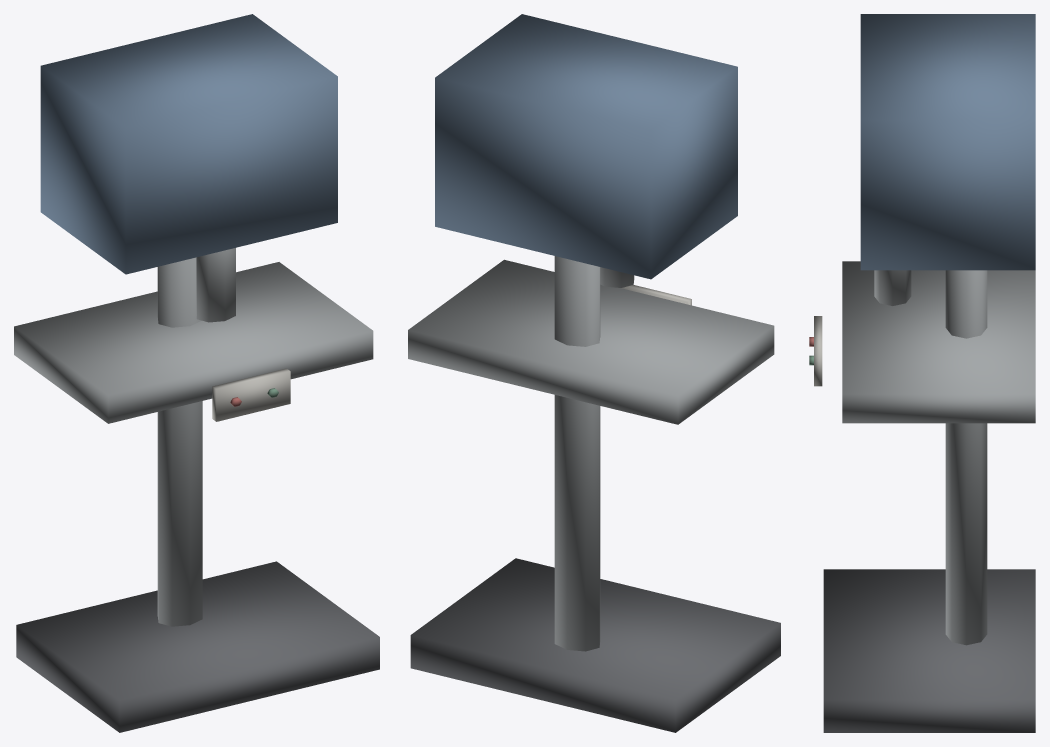
Rendered from drill_press__wide.glb.
The picture shows the model from 3 angles, left to right: view 1: azimuth 30°, elevation 25°; view 2: azimuth 150°, elevation 25°; view 3: azimuth 270°, elevation 25°; orthographic projection. The views are drawn at different scales.
Visible parts, largest first — view 1: world; view 2: world; view 3: world.
Boxes of the visible parts, box(x1,y1,x2,y2) form: world: box(14, 14, 379, 732); world: box(408, 14, 780, 732); world: box(809, 14, 1035, 732).
Size of the model in its own units: 0.682 by 1.44 by 0.491.
